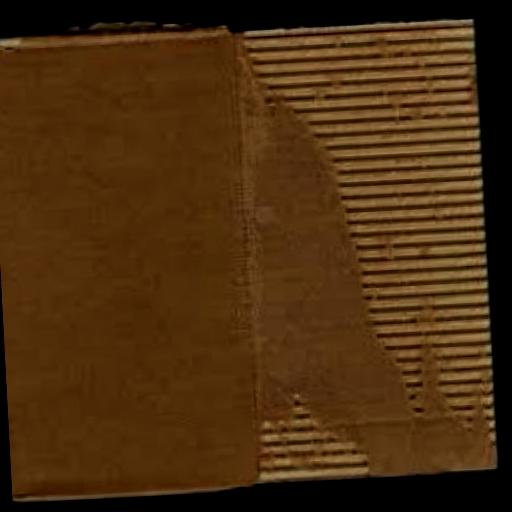cardboard: (0, 3, 504, 508)
